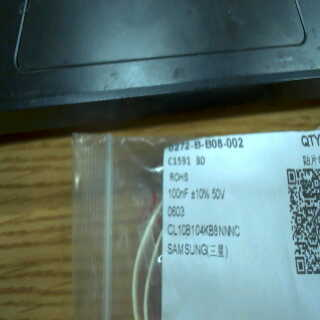100nF: (168, 187, 191, 201)
